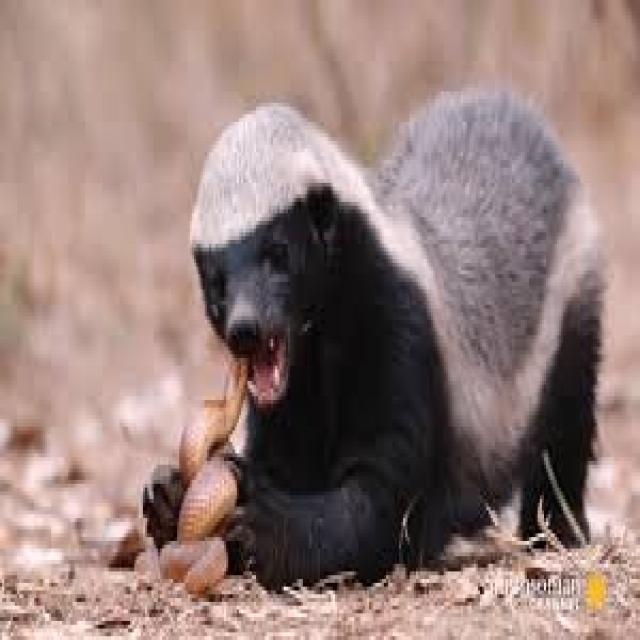Badger: (141, 75, 605, 564)
